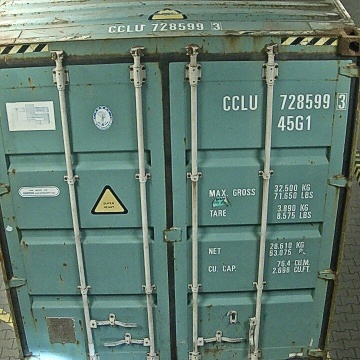serial_id: (223, 93, 346, 109)
